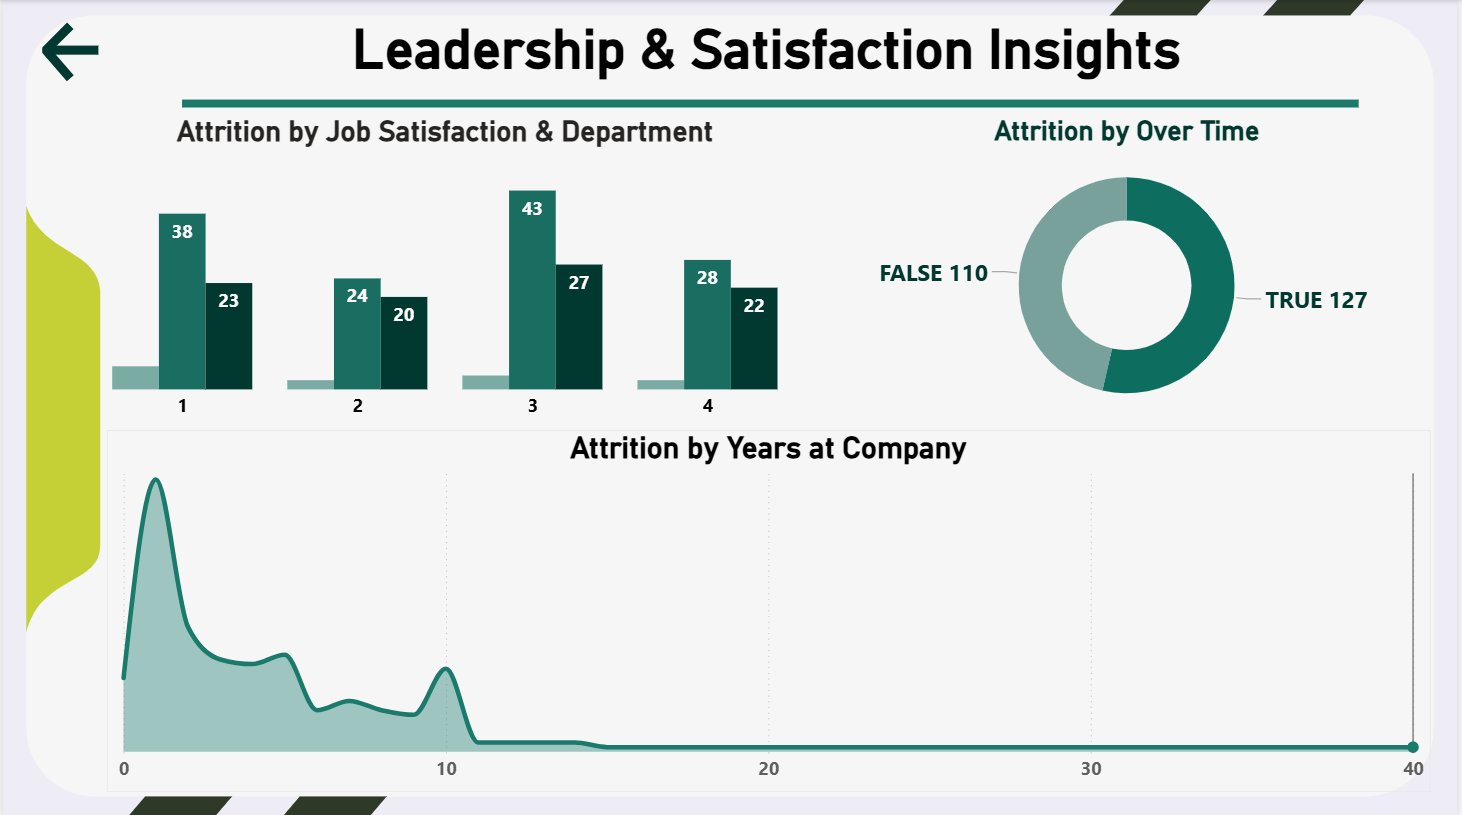

Layout of this report page (visuals, bound fields, positions):
{"tool":"powerbi","page":{"name":"Environment & Leadership","canvas":[1280,720],"ordinal":3},"visuals":[{"type":"textbox","title":"Leadership & Satisfaction Insights","box":[239.5,15.1,914,86],"z":0},{"type":"clusteredColumnChart","title":"Attrition by Job Satisfaction & Department","fields":{"Y":["Measures (2).Total Attrition"],"Category":["HR-Employee-Attrition.JobSatisfaction"],"Series":["HR-Employee-Attrition.Department"]},"box":[91.7,101.2,595.2,277.4],"z":1000},{"type":"areaChart","title":"Attrition by Years at Company","fields":{"Category":["HR-Employee-Attrition.YearsAtCompany"],"Y":["Measures (2).Total Attrition"]},"box":[91.7,378.6,1164.3,319],"z":2000},{"type":"donutChart","title":"Attrition by Over Time","fields":{"Category":["HR-Employee-Attrition.OverTime"],"Y":["Measures (2).Total Attrition"]},"box":[721.4,101.2,534.5,277.4],"z":3000},{"type":"actionButton","box":[21.4,15.5,79.8,60.7],"z":4000}]}

Visuals, with their boxes in screenshot pixels (x1, y1, x2, y2), scaled from the page's 1280x720 canvas onto the 1462x815 screenshot:
"Leadership & Satisfaction Insights" textbox: BBox(274, 17, 1318, 114)
"Attrition by Job Satisfaction & Department" clusteredColumnChart: BBox(105, 115, 785, 429)
"Attrition by Years at Company" areaChart: BBox(105, 429, 1435, 790)
"Attrition by Over Time" donutChart: BBox(824, 115, 1434, 429)
actionButton: BBox(24, 18, 116, 86)
